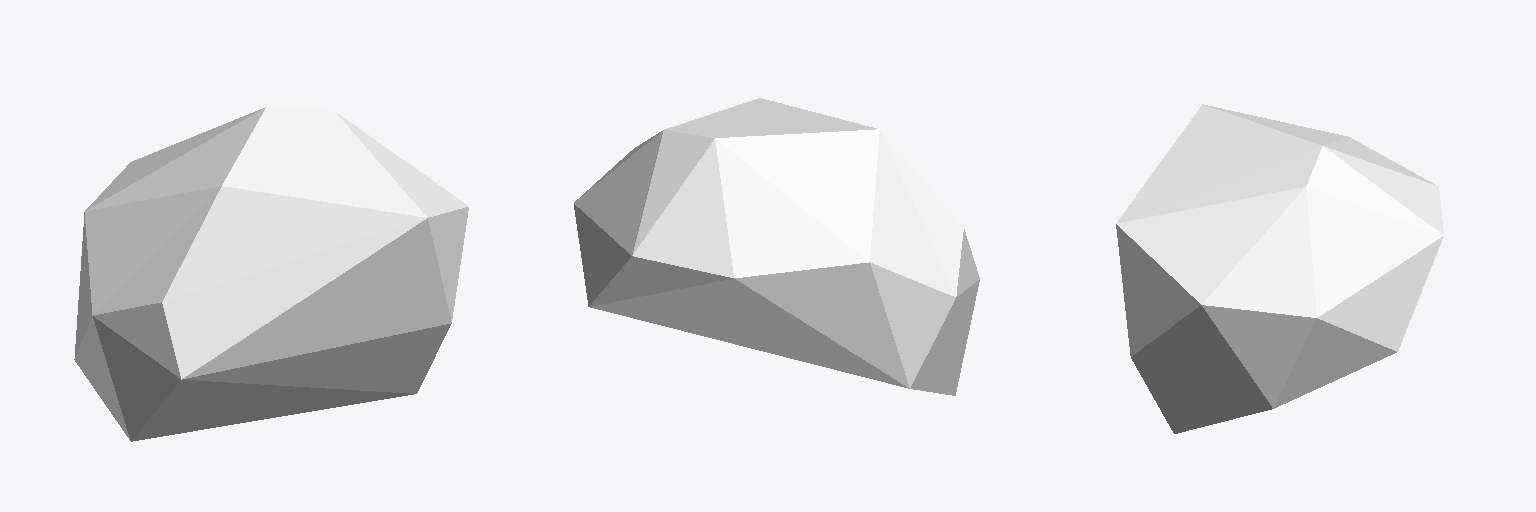
File: oolite_alt_splinter.obj
The picture shows the model from 3 angles: view 1: azimuth 30°, elevation 25°; view 2: azimuth 150°, elevation 25°; view 3: azimuth 270°, elevation 25°; orthographic projection.
Parts seen in each view (by area): view 1: oolite_alt_splinter.obj; view 2: oolite_alt_splinter.obj; view 3: oolite_alt_splinter.obj.
Part boxes in pixels (x1,y1,x2,y2): oolite_alt_splinter.obj: (74, 107, 468, 441); oolite_alt_splinter.obj: (574, 98, 979, 395); oolite_alt_splinter.obj: (1116, 104, 1443, 433).
Size of the model in its own units: 17.65 by 12.05 by 14.26.